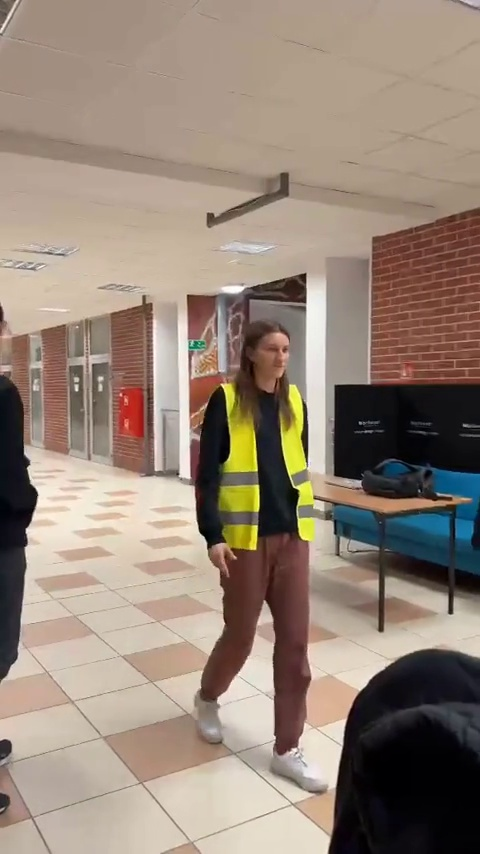vest: (187, 323, 335, 788)
